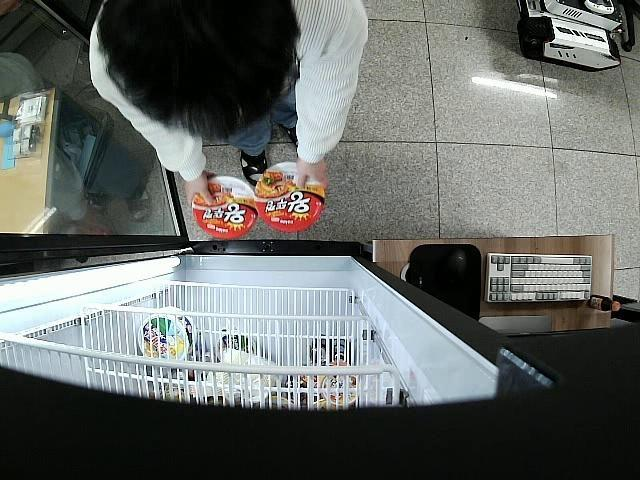10_wangTtukkeong: (256, 162, 325, 232), (192, 176, 255, 239)
